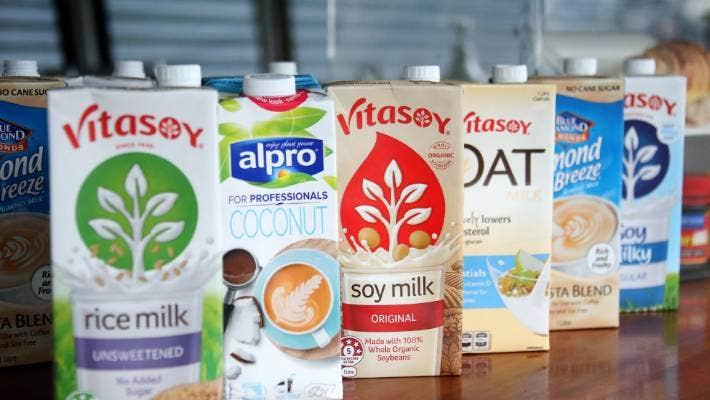cardboard: (49, 89, 220, 399), (218, 75, 341, 399), (329, 82, 462, 377), (460, 84, 554, 353), (0, 61, 62, 367), (548, 78, 622, 329), (619, 75, 685, 310), (681, 95, 709, 278)
